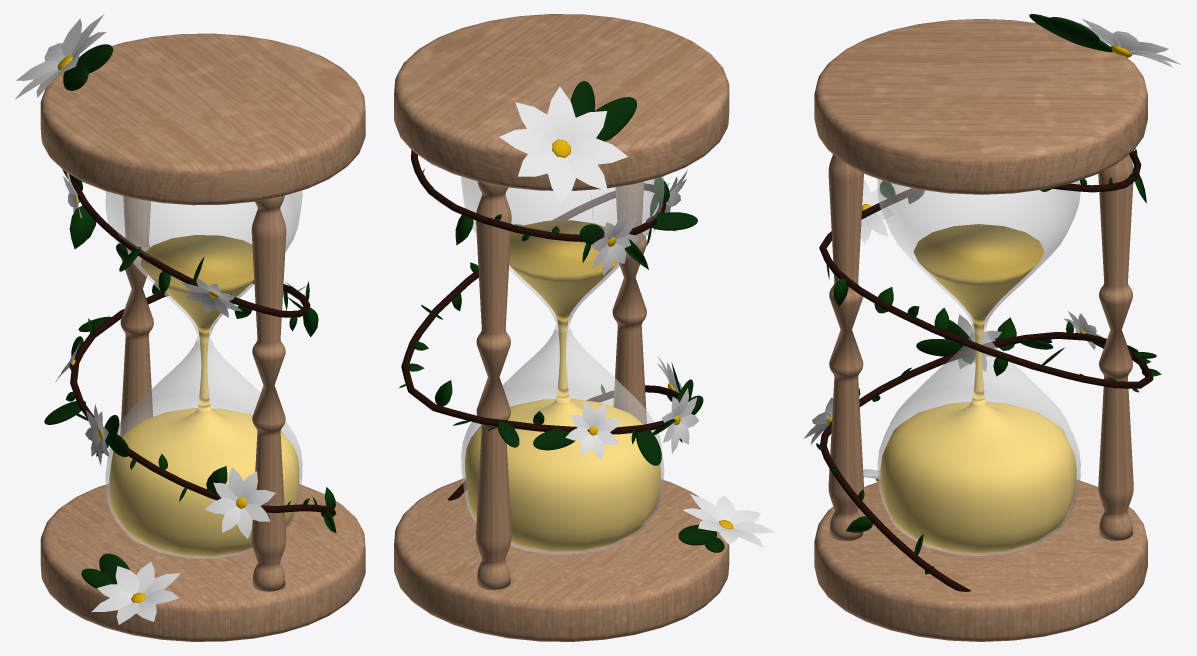
Rendered from reloj_de_arena_completo.obj.
3 renders of one model, left to right at view 1: azimuth 30°, elevation 25°; view 2: azimuth 150°, elevation 25°; view 3: azimuth 270°, elevation 25°, orthographic. The views are drawn at different scales.
Parts seen in each view (by area): view 1: Cylinder.002, Plane, Cylinder, Plane.003, Cylinder.001, Cylinder.003, Sphere, Cylinder.004, Vertex.006, Vertex.004, Vertex.005, Vertex (+1 smaller); view 2: Cylinder.002, Plane, Cylinder, Plane.003, Cylinder.001, Vertex.005, Cylinder.003, Sphere, Cylinder.004, Vertex.006, Vertex.003, Vertex.001 (+1 smaller); view 3: Plane, Cylinder.002, Plane.003, Cylinder, Cylinder.001, Cylinder.003, Cylinder.004, Sphere, Vertex.005, Vertex, Vertex.002.
Part boxes in pixels (bbox=[...]): Cylinder.002: bbox=[40, 33, 365, 205]; Plane: bbox=[105, 190, 302, 558]; Cylinder: bbox=[40, 484, 365, 641]; Plane.003: bbox=[109, 235, 299, 556]; Cylinder.001: bbox=[120, 196, 286, 591]; Cylinder.003: bbox=[70, 179, 335, 517]; Sphere: bbox=[44, 44, 140, 589]; Cylinder.004: bbox=[64, 205, 336, 533]; Vertex.006: bbox=[91, 561, 180, 624]; Vertex.004: bbox=[205, 467, 275, 538]; Vertex.005: bbox=[15, 14, 106, 99]; Vertex: bbox=[181, 278, 242, 317]; Cylinder.002: bbox=[394, 14, 729, 190]; Plane: bbox=[461, 176, 664, 554]; Cylinder: bbox=[394, 478, 729, 641]; Plane.003: bbox=[465, 220, 660, 551]; Cylinder.001: bbox=[476, 181, 646, 589]; Vertex.005: bbox=[499, 86, 628, 203]; Cylinder.003: bbox=[401, 150, 678, 500]; Sphere: bbox=[497, 81, 724, 552]; Cylinder.004: bbox=[399, 169, 682, 443]; Vertex.006: bbox=[683, 494, 774, 547]; Vertex.003: bbox=[565, 401, 621, 460]; Vertex.001: bbox=[591, 211, 638, 275]; Plane: bbox=[877, 179, 1080, 555]; Cylinder.002: bbox=[814, 19, 1147, 194]; Plane.003: bbox=[880, 224, 1076, 553]; Cylinder: bbox=[814, 480, 1147, 641]; Cylinder.001: bbox=[828, 154, 1133, 540]; Cylinder.003: bbox=[819, 150, 1153, 591]; Cylinder.004: bbox=[816, 148, 1161, 574]; Sphere: bbox=[916, 14, 1156, 358]; Vertex.005: bbox=[1076, 19, 1181, 67]; Vertex: bbox=[860, 179, 894, 243]; Vertex.002: bbox=[957, 314, 1001, 371].
Bounding box in the file's own units: 1.33 × 2.23 × 1.44.
Materials: 15 (10 with a texture image).
